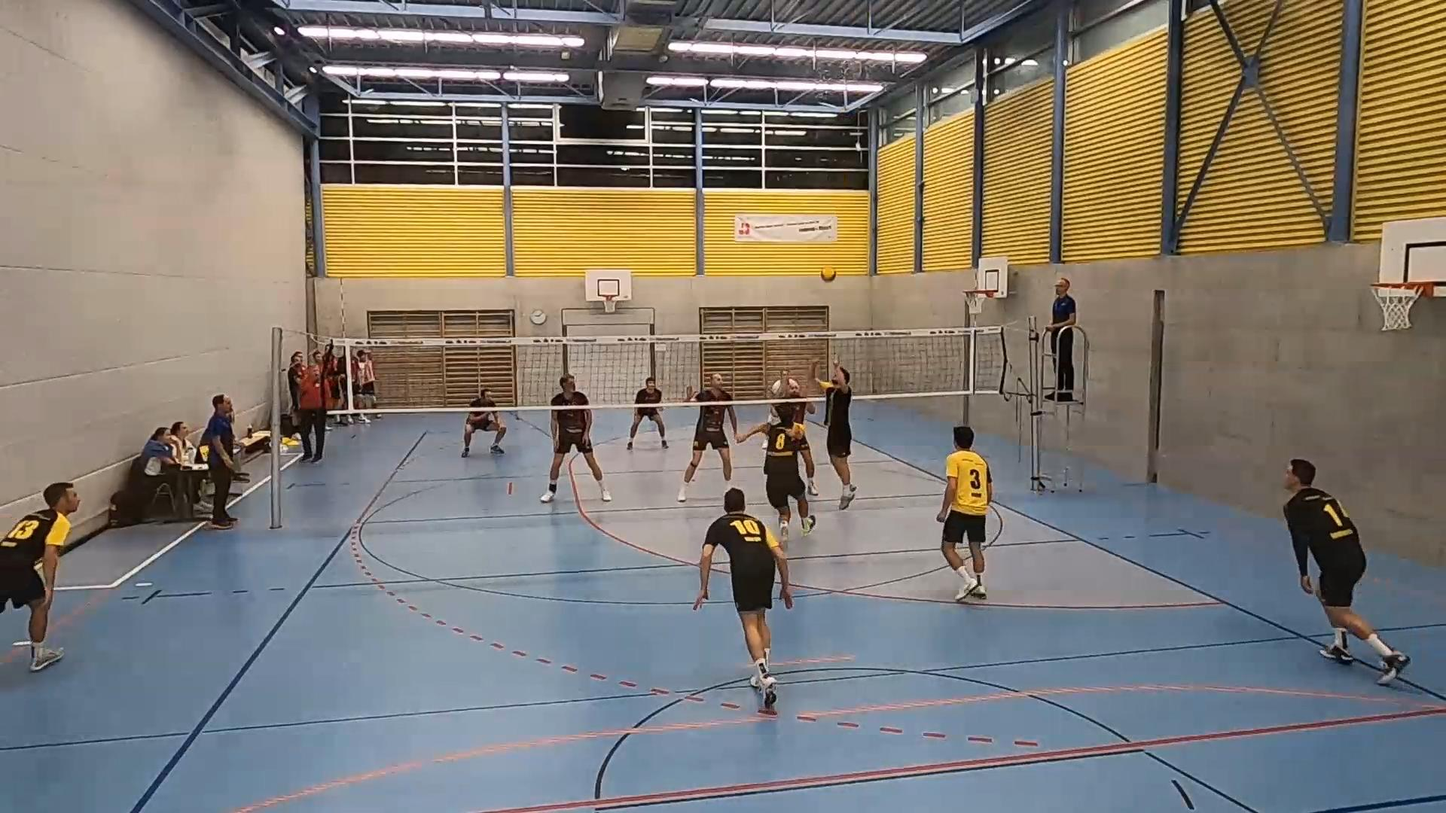alzata: (811, 356, 855, 507)
